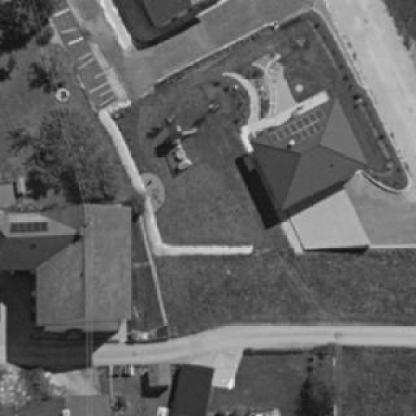solar-pv-panel: (269, 108, 324, 143), (10, 222, 49, 233)
